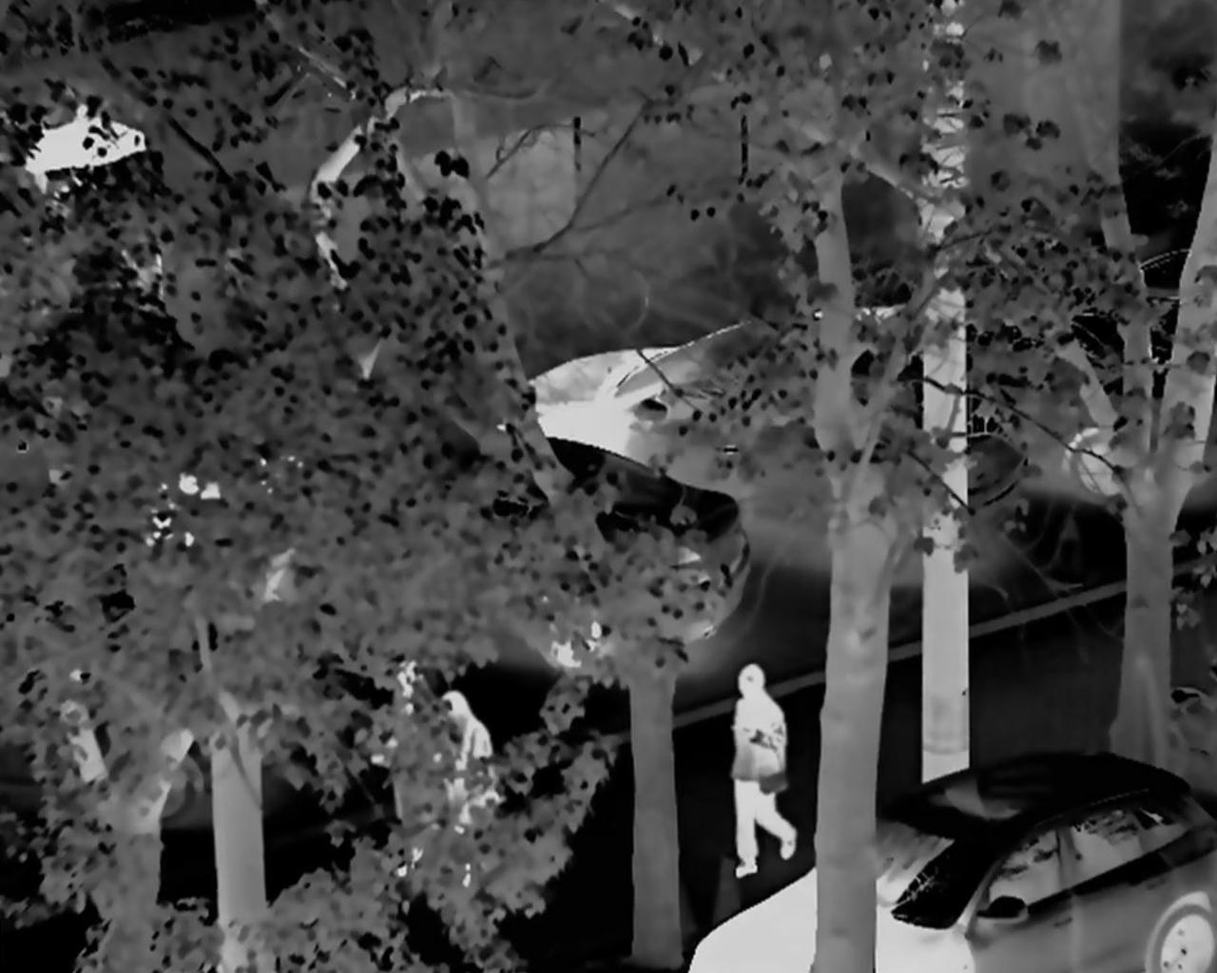person: (713, 665, 814, 884), (425, 683, 501, 902), (377, 661, 438, 892)
